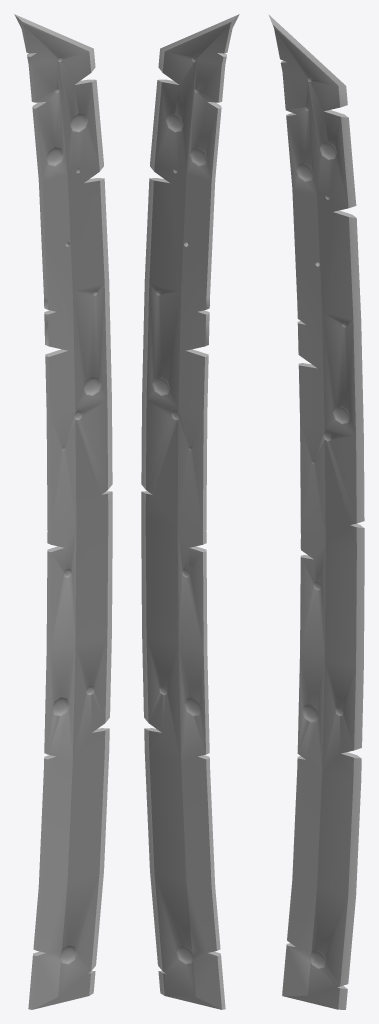
File: stone_blade_bubbles_058.glb
3 views of the same model, side by side, from view 1: azimuth 30°, elevation 25°; view 2: azimuth 150°, elevation 25°; view 3: azimuth 330°, elevation 25° (orthographic). The views are drawn at different scales.
Visible parts, largest first — view 1: stone_blade_bubbles.058; view 2: stone_blade_bubbles.058; view 3: stone_blade_bubbles.058.
Boxes of the visible parts, x1,y1,x2,y2 form: stone_blade_bubbles.058: (14, 14, 112, 1009); stone_blade_bubbles.058: (141, 14, 239, 1009); stone_blade_bubbles.058: (268, 14, 364, 1009).
Size of the model in its own units: 1.22 by 11.77 by 0.0749.
Materials: 1 (1 with a texture image).
